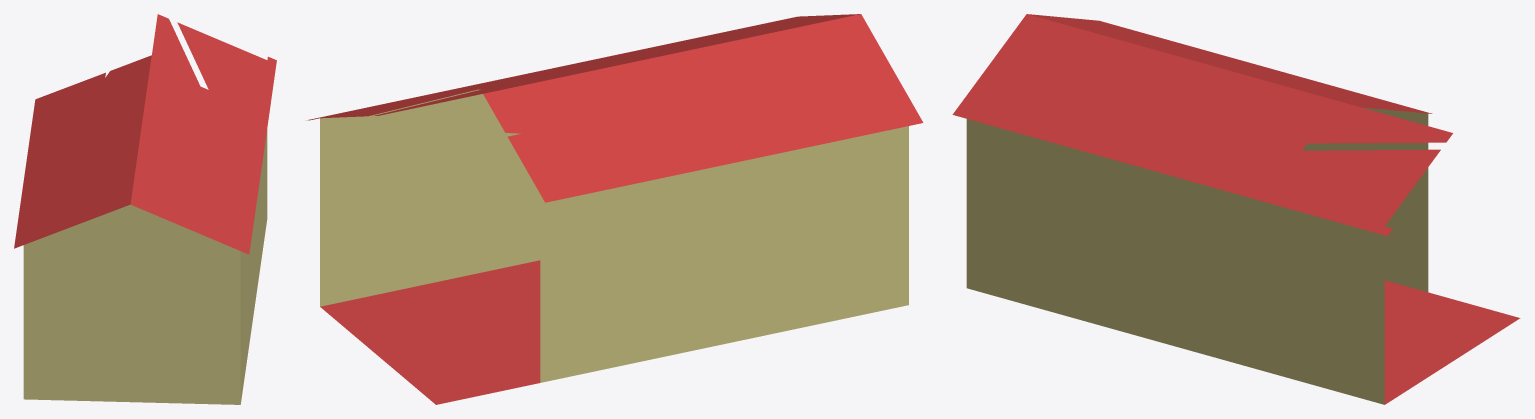
3 views of the same model, side by side, from view 1: azimuth 30°, elevation 25°; view 2: azimuth 150°, elevation 25°; view 3: azimuth 270°, elevation 25° (orthographic). The views are drawn at different scales.
Bounding box in the file's own units: 12.45 × 13.87 × 6.14.
